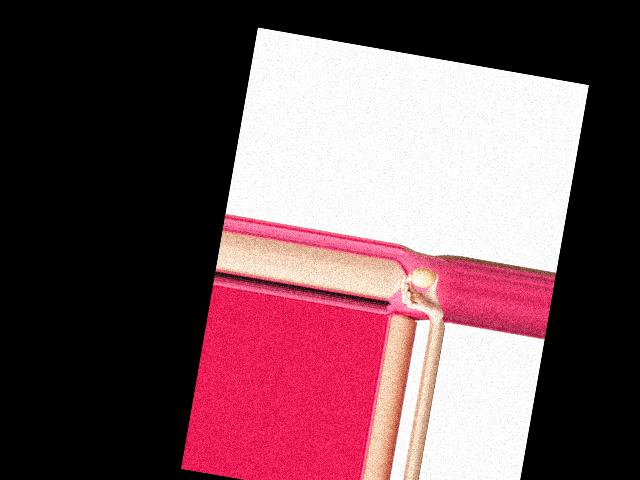egg: (408, 266, 437, 289)
